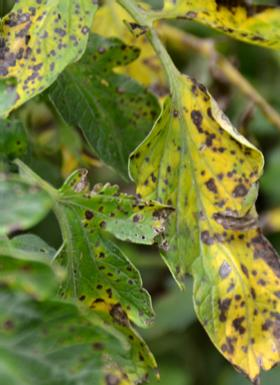Tomato Early blight leaf: (148, 69, 280, 374), (0, 0, 104, 113), (153, 0, 280, 46)
